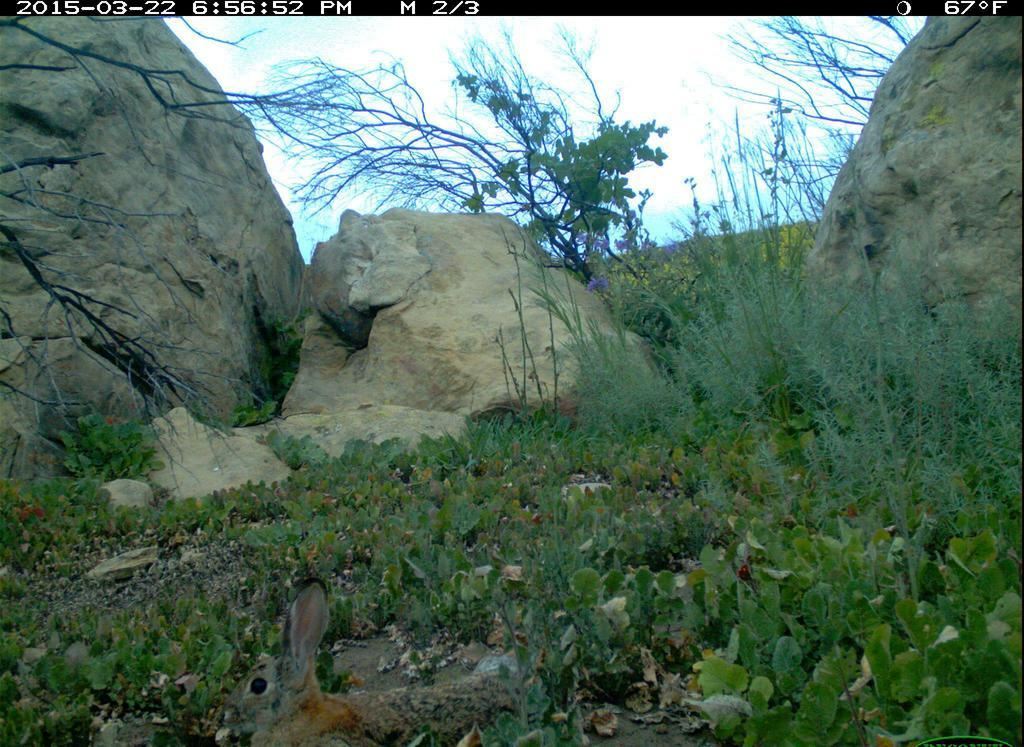rabbit: (208, 578, 525, 747)
